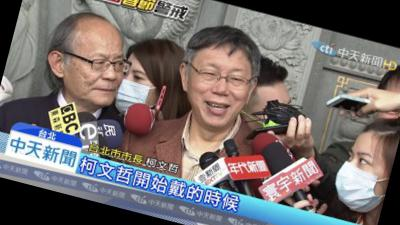with_mask: (329, 144, 393, 215), (109, 64, 163, 124)
without_mask: (178, 53, 256, 136), (54, 37, 128, 114)
